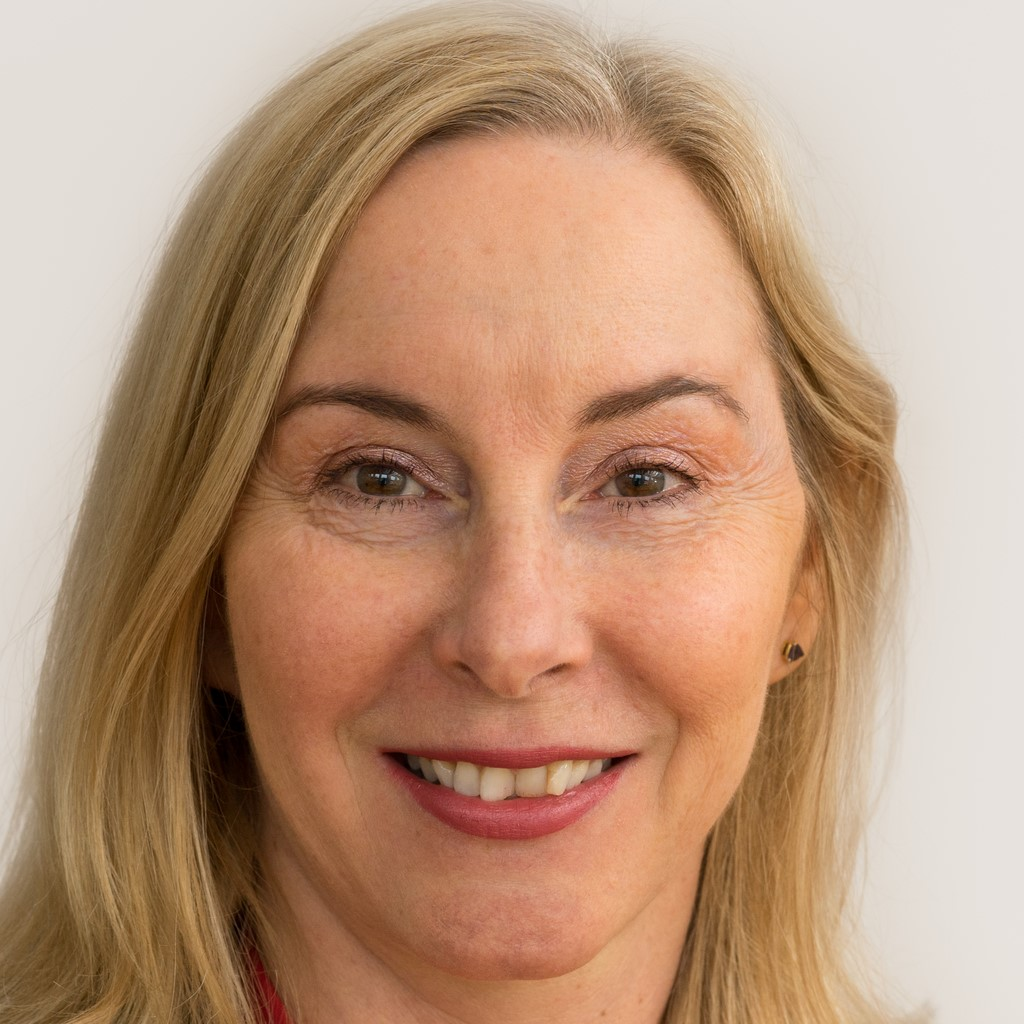sin_mascara: (199, 95, 823, 979)
